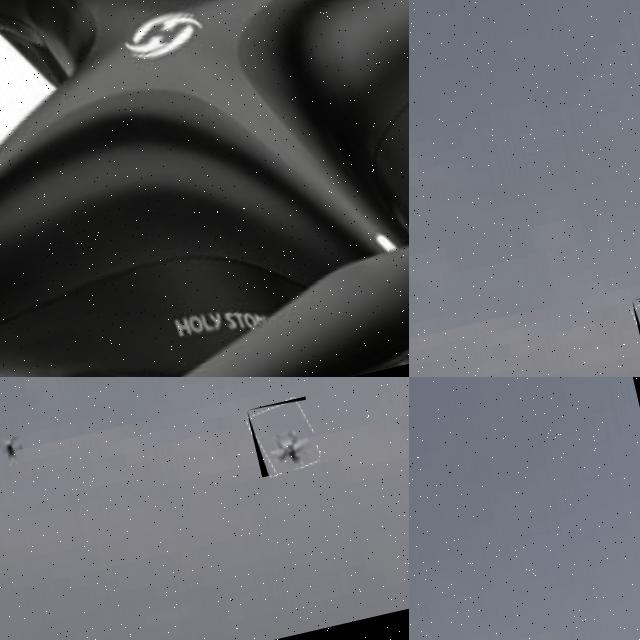0: (247, 396, 321, 476)
drone: (0, 0, 409, 377)
